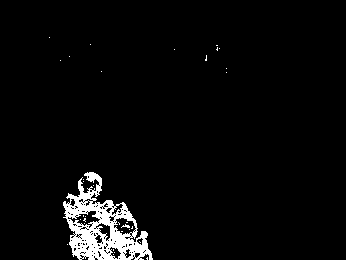person: (67, 172, 109, 260)
